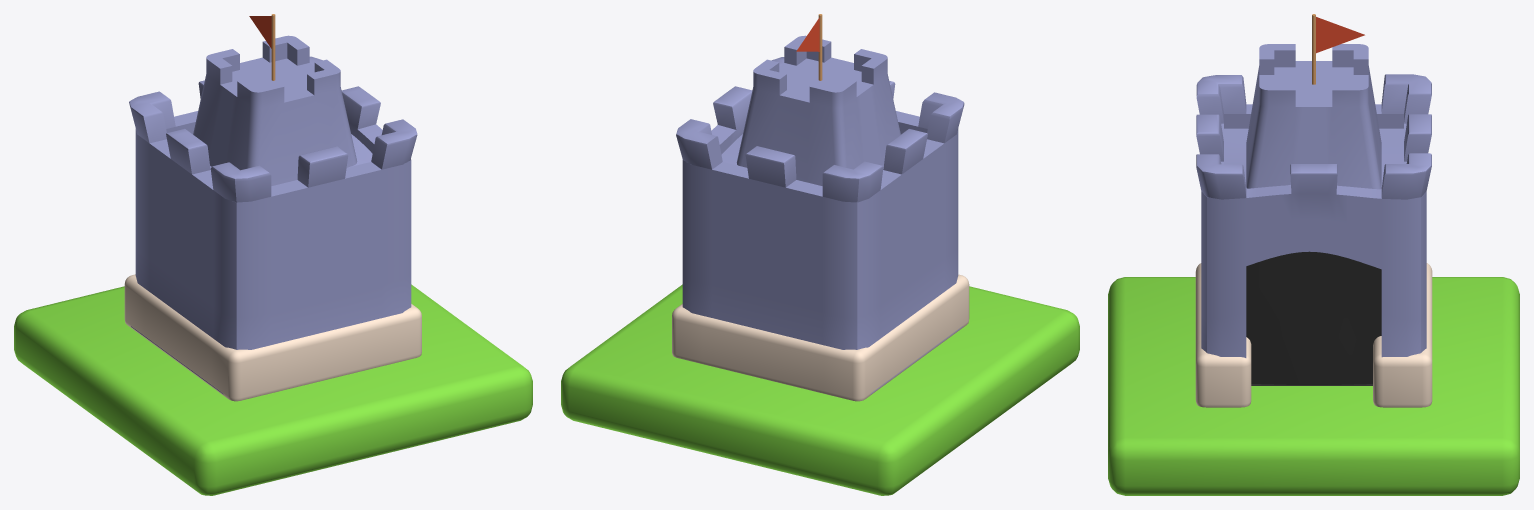
The model's file is Castle.glb.
3 views of the same model, side by side, from view 1: azimuth 30°, elevation 25°; view 2: azimuth 150°, elevation 25°; view 3: azimuth 270°, elevation 25° (orthographic). The views are drawn at different scales.
Visible parts, largest first — view 1: Cube.001, Cube, Cube.002; view 2: Cube.001, Cube, Cube.002; view 3: Cube.001, Cube, Cube.002, Plane.
Boxes of the visible parts, x1,y1,x2,y2 form: Cube.001: (129, 14, 417, 394); Cube: (14, 284, 532, 495); Cube.002: (124, 274, 421, 401); Cube.001: (676, 14, 964, 394); Cube: (561, 284, 1079, 495); Cube.002: (672, 274, 969, 401); Cube.001: (1196, 14, 1431, 405); Cube: (1108, 277, 1519, 495); Cube.002: (1195, 263, 1432, 407); Plane: (1316, 17, 1364, 53).
Size of the model in its own units: 2 by 2.14 by 2.
